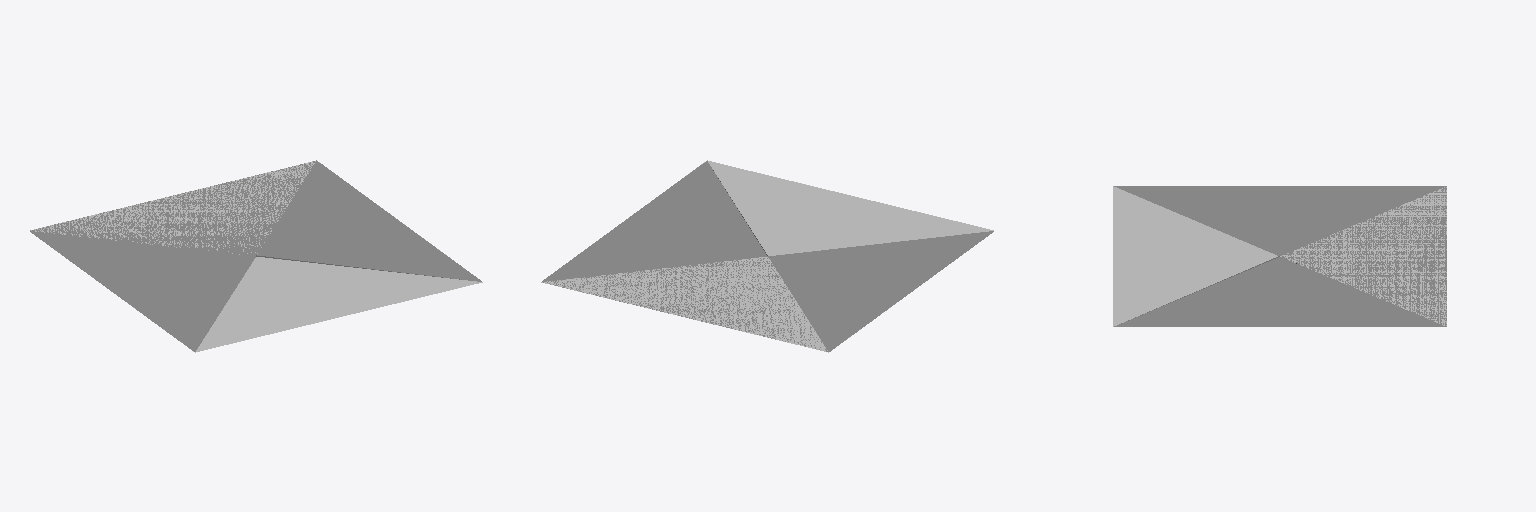
Rendered from frame8.obj.
The picture shows the model from 3 angles: view 1: azimuth 30°, elevation 25°; view 2: azimuth 150°, elevation 25°; view 3: azimuth 270°, elevation 25°; orthographic projection.
Visible parts, largest first — view 1: Cube, ground; view 2: Cube, ground; view 3: Cube, ground.
Part boxes in pixels (x1,y1,x2,y2): Cube: (30, 160, 481, 351); ground: (31, 161, 482, 352); Cube: (542, 161, 993, 351); ground: (541, 160, 993, 352); Cube: (1114, 186, 1446, 326); ground: (1113, 186, 1446, 326).
Size of the model in its own units: 2000 by 7 by 2000.